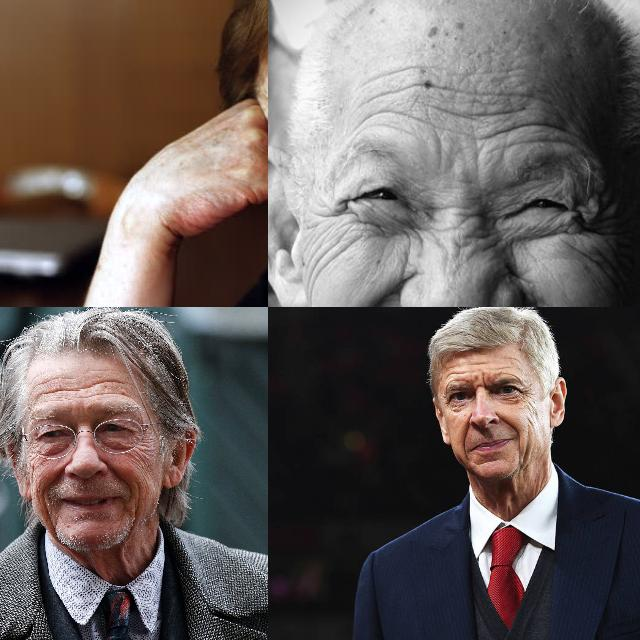bunny_line: (444, 237, 478, 265)
chin: (476, 457, 502, 468)
crows_feet: (574, 202, 614, 246), (312, 206, 354, 247), (522, 389, 534, 405)
forehead: (488, 116, 570, 144), (474, 90, 530, 128), (408, 78, 464, 114), (360, 76, 394, 116), (98, 374, 126, 400), (34, 374, 58, 401), (67, 377, 93, 395), (494, 364, 518, 378), (443, 368, 469, 380)
frown_line: (430, 196, 486, 234), (475, 373, 487, 391)
gummy_smile: (355, 283, 403, 307), (109, 458, 131, 486), (47, 464, 67, 488), (499, 411, 519, 433), (460, 419, 474, 446)
masseter: (135, 441, 157, 469), (26, 446, 42, 482), (130, 496, 144, 536), (40, 496, 58, 524), (525, 413, 539, 431)
sad_smile: (461, 446, 472, 462), (514, 437, 522, 453)
